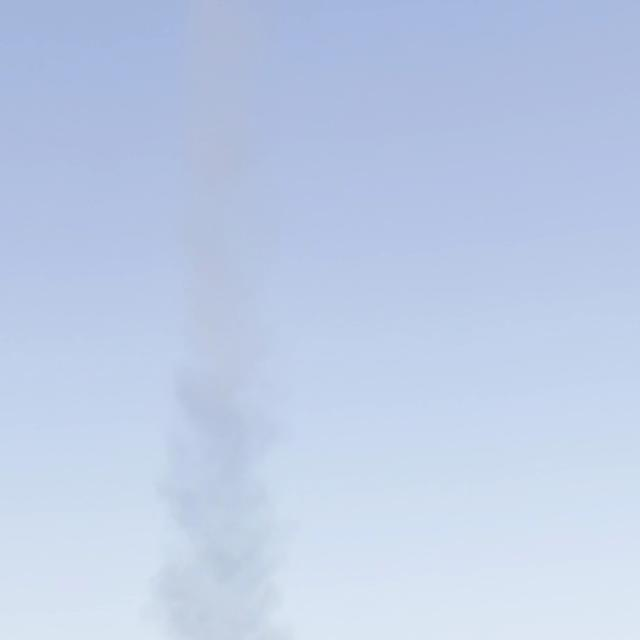smoke_trail_with_rocket: (163, 0, 290, 640)
